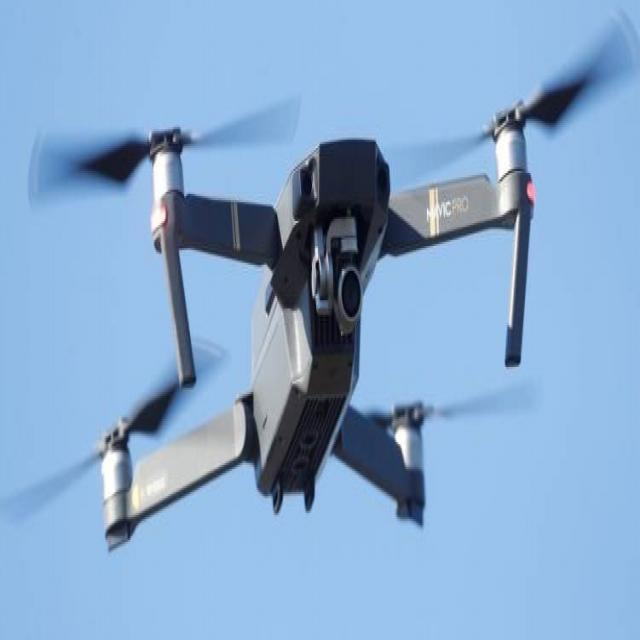drone: (19, 20, 640, 577)
